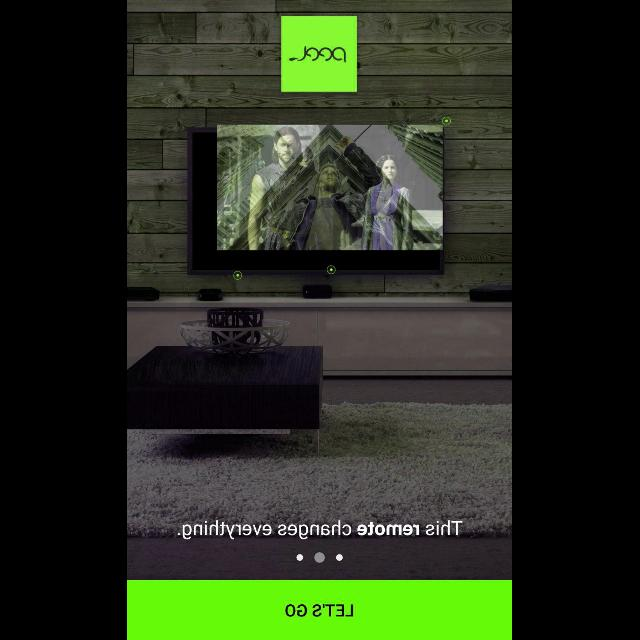image: (128, 1, 512, 580)
pageindicator: (296, 552, 344, 564)
text: (178, 520, 464, 540)
textbutton: (128, 580, 512, 640)
